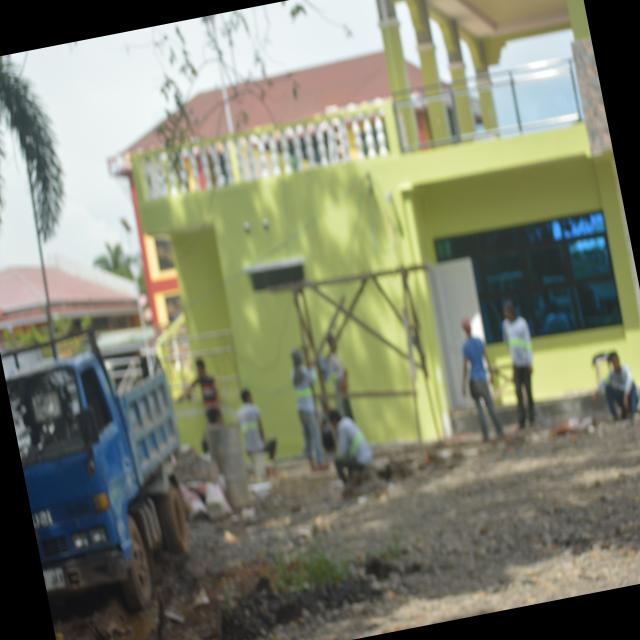person: (461, 318, 502, 441), (290, 348, 326, 470), (501, 301, 533, 428), (328, 410, 372, 482), (592, 352, 637, 420), (235, 390, 275, 458), (327, 336, 353, 419)
